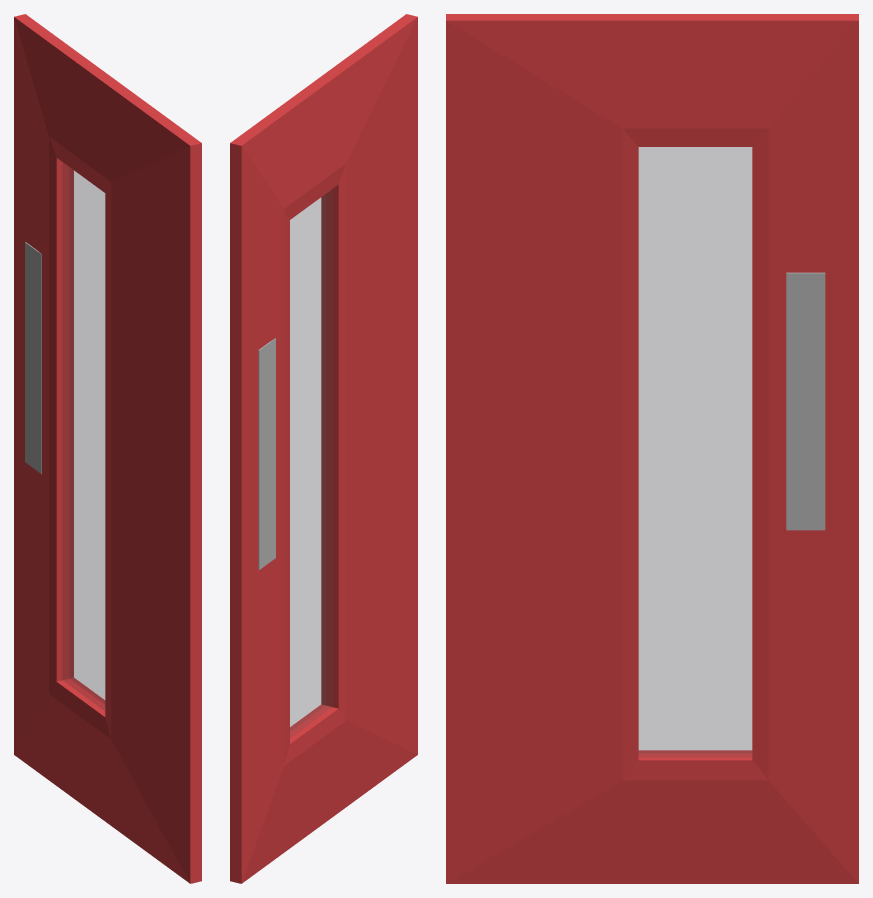
File: door.dae
3 views of the same model, side by side, from view 1: azimuth 30°, elevation 25°; view 2: azimuth 150°, elevation 25°; view 3: azimuth 270°, elevation 25° (orthographic). The views are drawn at different scales.
Visible parts, largest first — view 1: Plane, Cube, Cube.002; view 2: Plane, Cube, Cube.002; view 3: Plane, Cube, Cube.001.
Boxes of the visible parts, x1,y1,x2,y2 form: Plane: [14, 14, 201, 883]; Cube: [63, 163, 104, 710]; Cube.002: [25, 242, 41, 474]; Plane: [230, 14, 417, 883]; Cube: [290, 190, 331, 737]; Cube.002: [258, 338, 275, 569]; Plane: [446, 14, 858, 883]; Cube: [639, 147, 751, 756]; Cube.001: [786, 272, 825, 530].
Size of the model in its own units: 0.1701 by 2.72 by 6.28.
